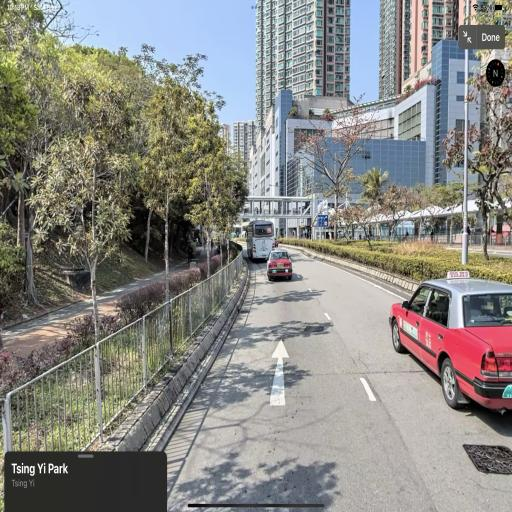Roads: (113, 217, 494, 475)
Trees: (22, 20, 247, 304)
